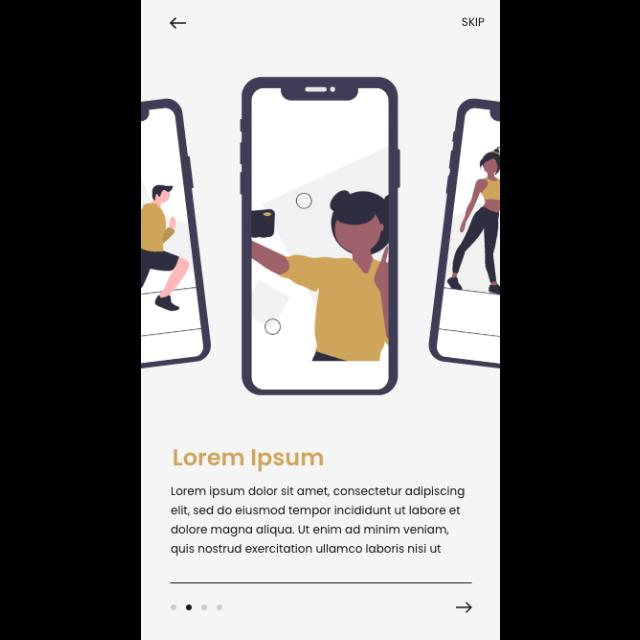icon: (455, 600, 473, 614), (169, 18, 187, 30)
image: (141, 78, 499, 396)
pageindicator: (170, 604, 223, 610)
text: (170, 486, 466, 556), (173, 449, 323, 473), (461, 18, 485, 28)
